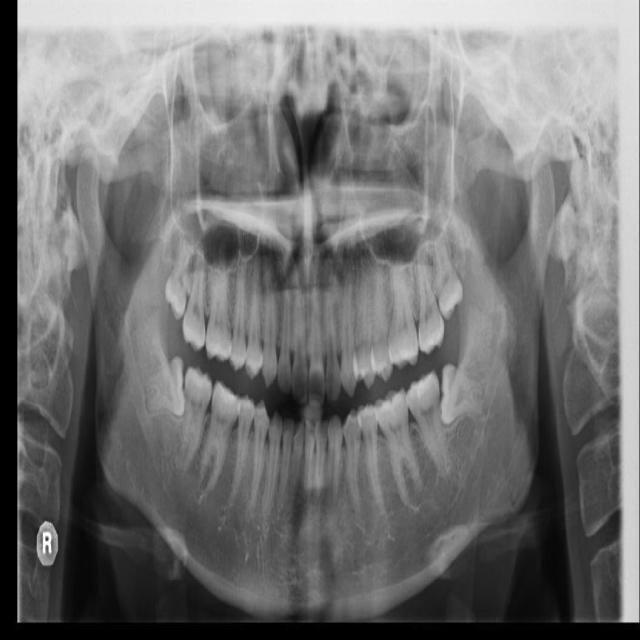impacted tooth: (440, 365, 490, 421), (430, 229, 461, 313), (141, 357, 184, 417)
